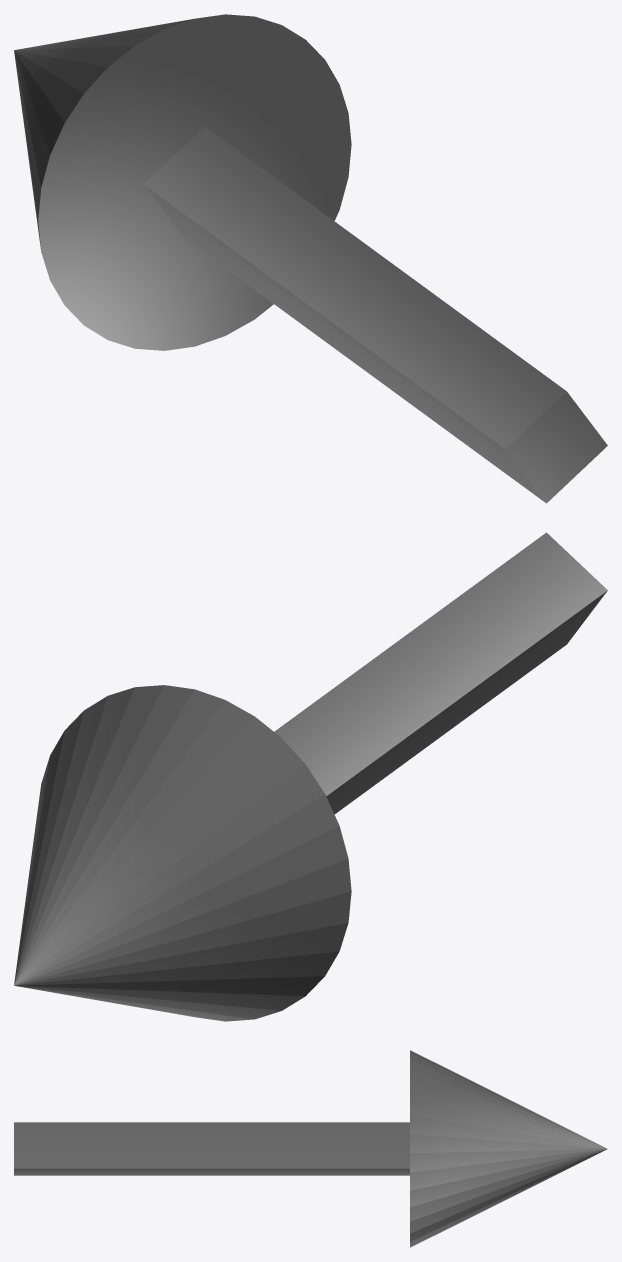
The model's file is arrow.gltf.
3 renders of one model, top to bottom at view 1: azimuth 30°, elevation 25°; view 2: azimuth 150°, elevation 25°; view 3: azimuth 270°, elevation 25°, orthographic. The views are drawn at different scales.
Visible parts, largest first — view 1: Cone; view 2: Cone; view 3: Cone.
Boxes of the visible parts, x1,y1,x2,y2 form: Cone: (14,14,607,503); Cone: (14,532,607,1021); Cone: (14,1050,607,1247).
Bounding box in the file's own units: 0.3333 × 0.3333 × 1.
Materials: 1 (1 with a texture image).
